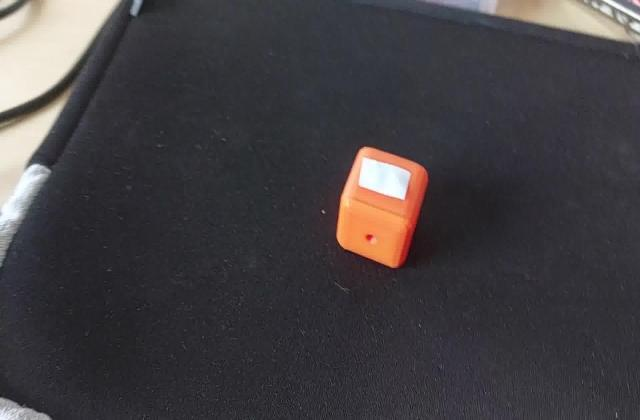sticker: (332, 144, 432, 275)
white: (357, 164, 415, 203)
